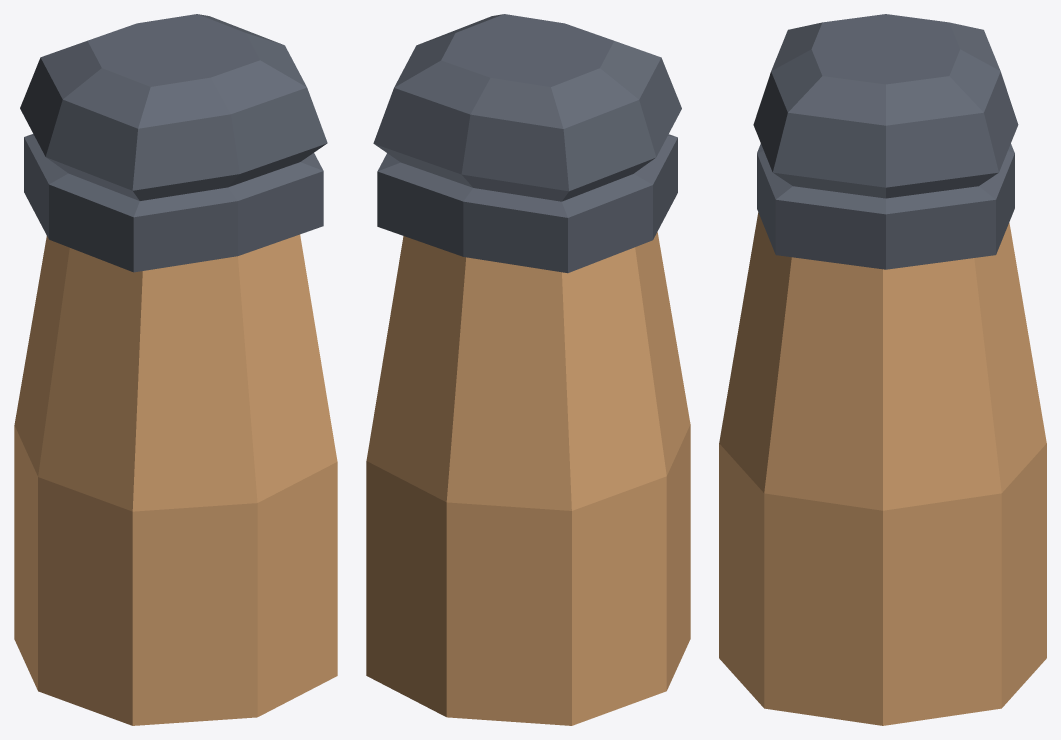
Rendered from cinnamon.glb.
3 views of the same model, side by side, from view 1: azimuth 30°, elevation 25°; view 2: azimuth 150°, elevation 25°; view 3: azimuth 270°, elevation 25° (orthographic).
Parts seen in each view (by area): view 1: Cube.009, Cube.010; view 2: Cube.009, Cube.010; view 3: Cube.009, Cube.010.
Boxes of the visible parts, bbox=[...] form: Cube.009: bbox=[14, 234, 337, 725]; Cube.010: bbox=[20, 14, 327, 272]; Cube.009: bbox=[366, 232, 690, 725]; Cube.010: bbox=[373, 14, 681, 273]; Cube.009: bbox=[719, 212, 1046, 725]; Cube.010: bbox=[753, 14, 1018, 269].
Bounding box in the file's own units: 0.5396 × 1.13 × 0.5531.
